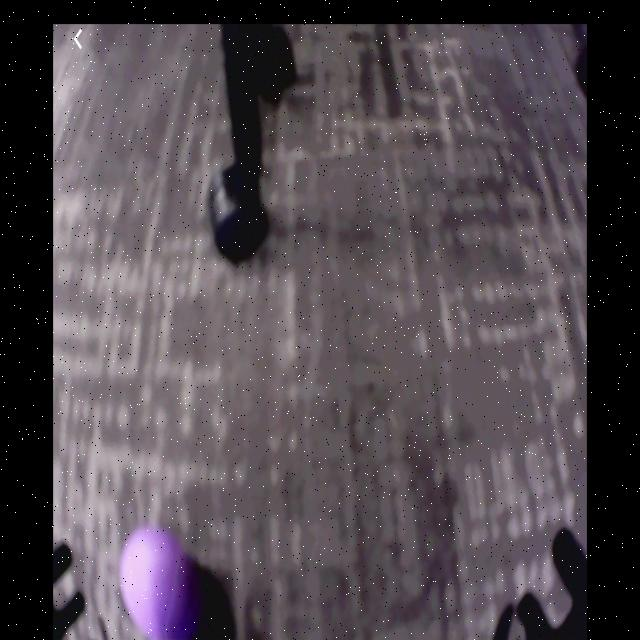ball: (121, 525, 199, 638)
